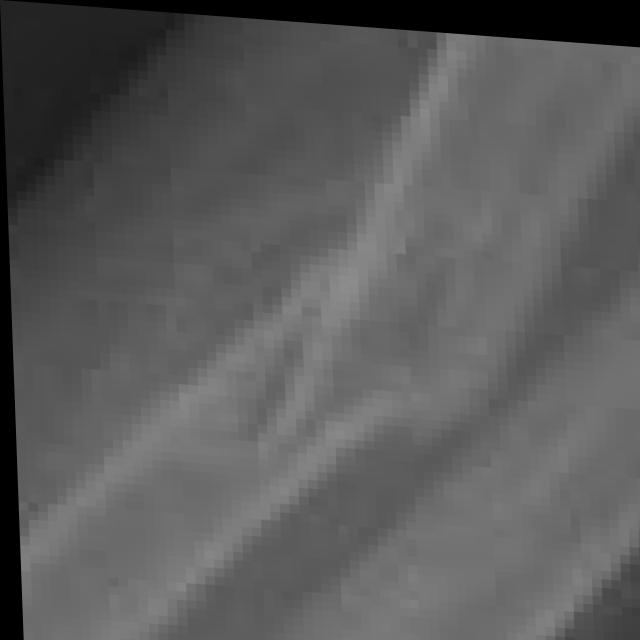fracture: (10, 25, 640, 640)
